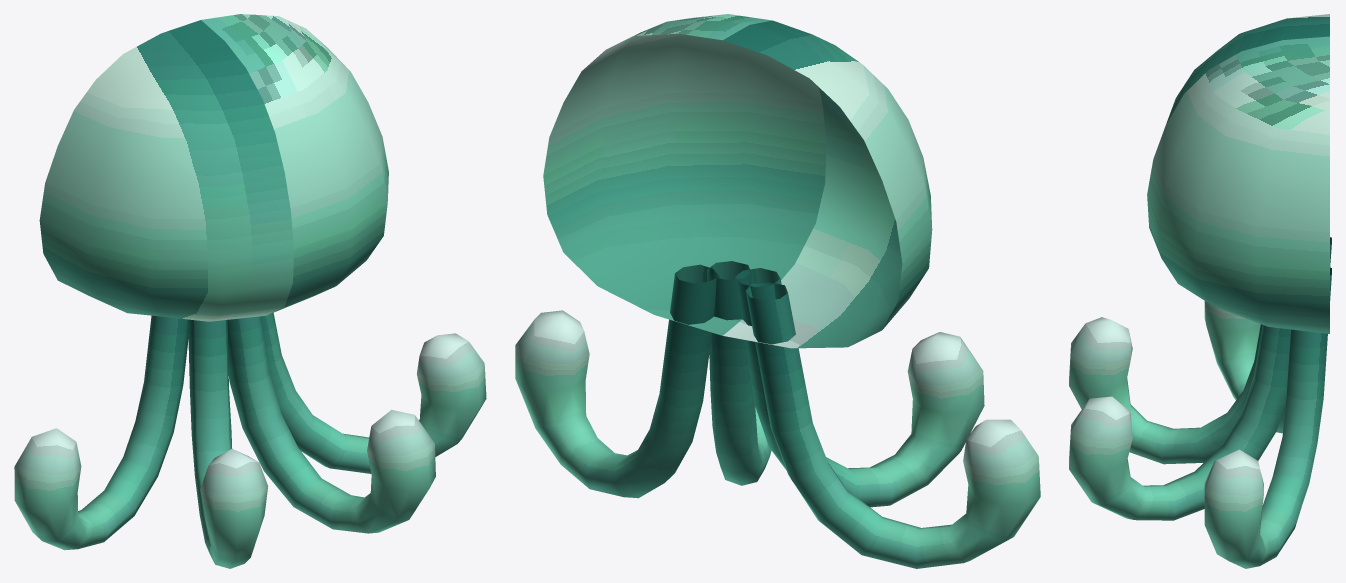
The model's file is int_fis_lamp_wall.dae.
The picture shows the model from 3 angles, left to right: view 1: azimuth 30°, elevation 25°; view 2: azimuth 150°, elevation 25°; view 3: azimuth 270°, elevation 25°; orthographic projection. The views are drawn at different scales.
Parts seen in each view (by area): view 1: int_fis_lamp_wall; view 2: int_fis_lamp_wall; view 3: int_fis_lamp_wall.
Boxes of the visible parts, x1,y1,x2,y2 form: int_fis_lamp_wall: (14, 14, 486, 568); int_fis_lamp_wall: (515, 14, 1040, 568); int_fis_lamp_wall: (1069, 14, 1331, 568).
Bounding box in the file's own units: 30.13 × 28.94 × 15.18.
1 material, 1 textured.
